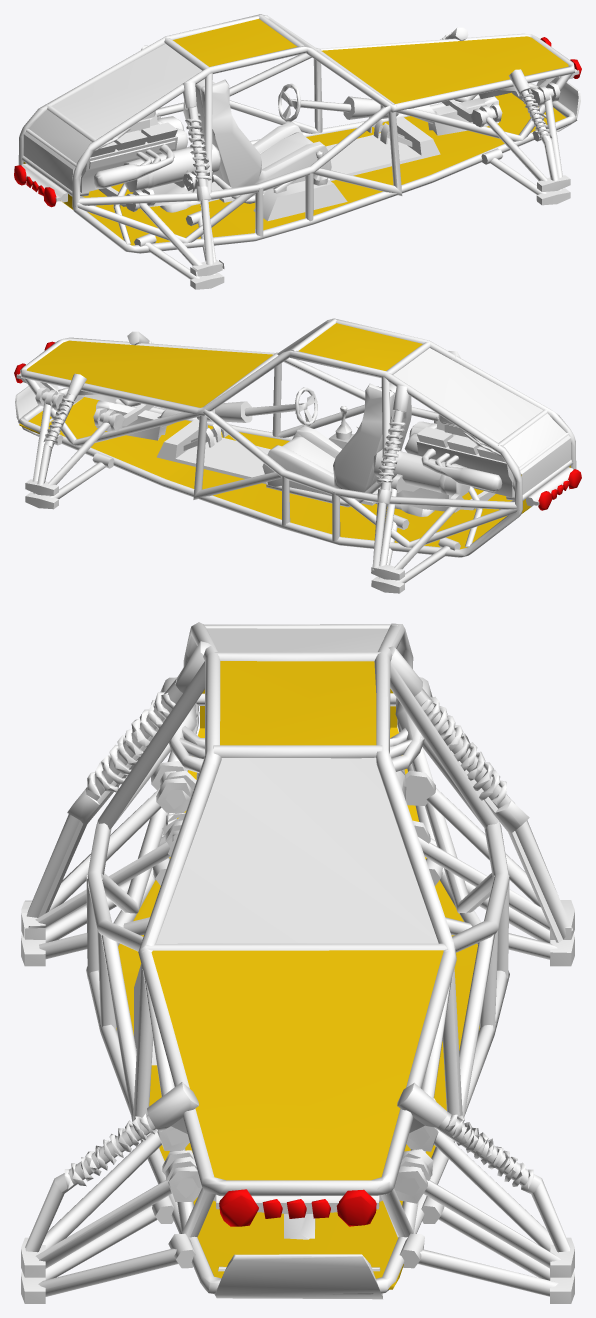
File: Buggy.fbx
The picture shows the model from 3 angles, top to bottom: view 1: azimuth 30°, elevation 25°; view 2: azimuth 150°, elevation 25°; view 3: azimuth 270°, elevation 25°; orthographic projection. The views are drawn at different scales.
Parts seen in each view (by area): view 1: Buggy; view 2: Buggy; view 3: Buggy.
Part boxes in pixels (box(x1,y1,x2,y2)): Buggy: box(14, 14, 581, 289); Buggy: box(14, 318, 581, 593); Buggy: box(21, 622, 574, 1303).
Bounding box in the file's own units: 630 × 198 × 285.
